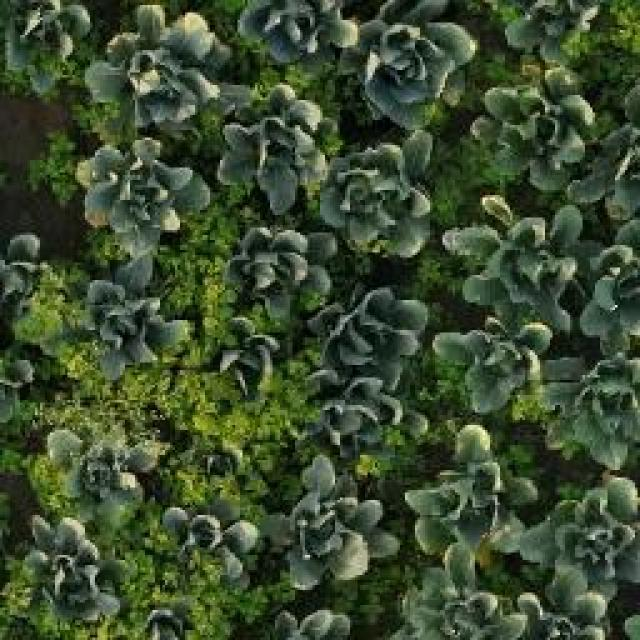cabbage: (269, 463, 400, 592), (74, 141, 210, 259), (441, 197, 573, 316), (411, 434, 528, 564), (387, 542, 535, 640), (216, 88, 333, 210), (527, 482, 640, 605), (475, 75, 598, 187), (329, 136, 441, 256), (430, 305, 542, 423), (98, 2, 210, 120), (296, 366, 422, 470), (75, 267, 185, 385), (358, 10, 468, 128), (15, 515, 125, 628), (37, 418, 157, 520), (227, 222, 337, 327), (156, 502, 266, 599), (549, 350, 640, 467), (322, 282, 435, 365), (234, 0, 362, 62), (0, 0, 99, 74), (213, 325, 290, 406), (182, 429, 256, 494), (0, 224, 50, 306)
